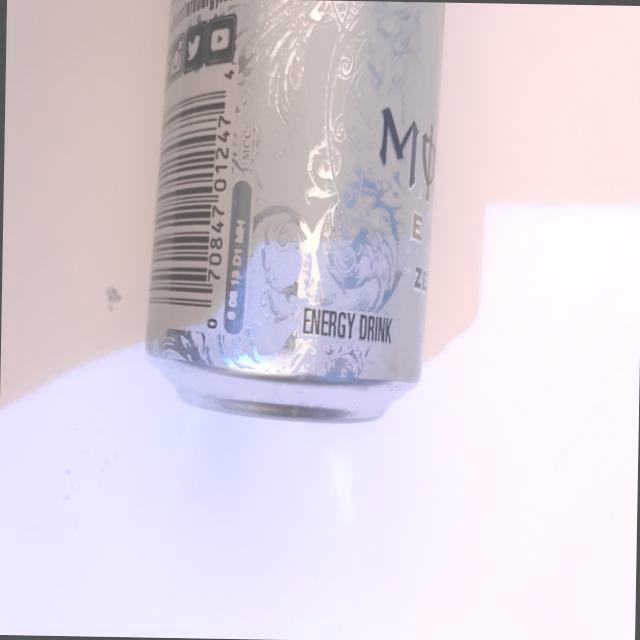metal: (108, 0, 472, 455)
